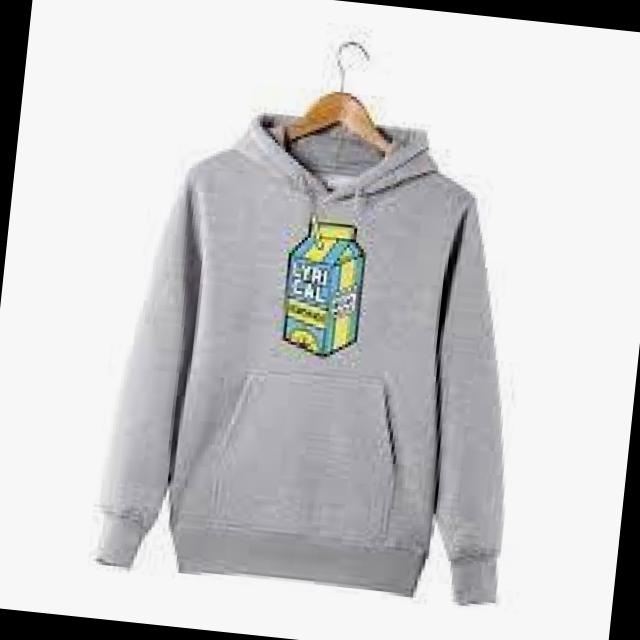sweater: (54, 81, 576, 628)
